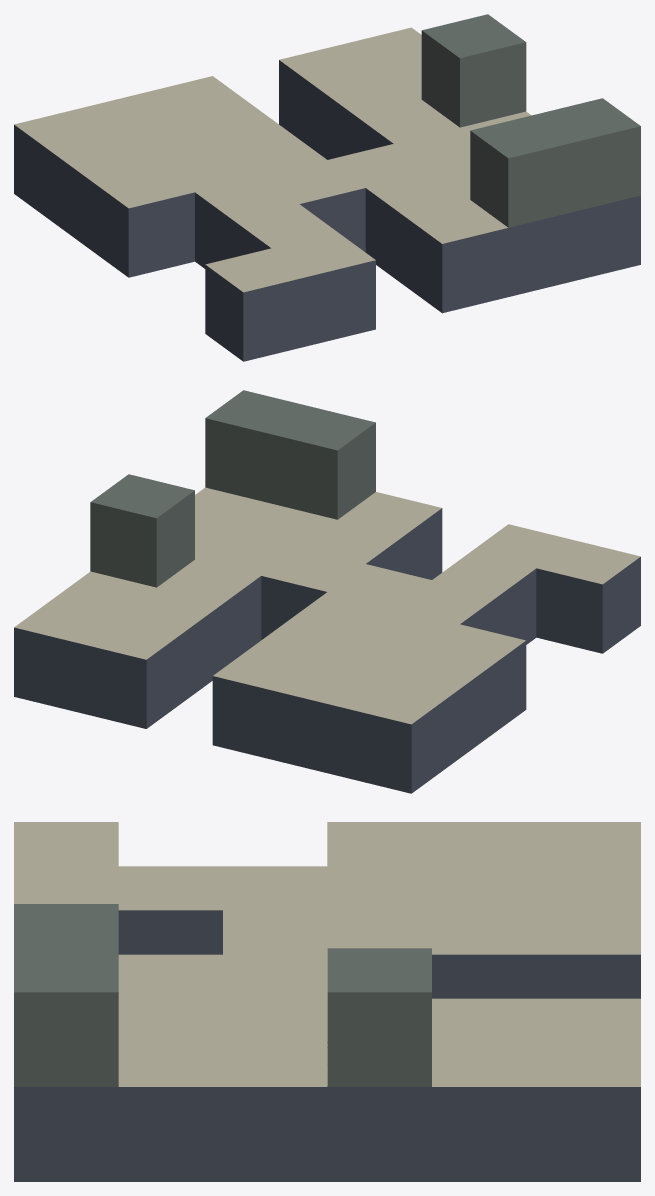
3 renders of one model, top to bottom at view 1: azimuth 30°, elevation 25°; view 2: azimuth 150°, elevation 25°; view 3: azimuth 270°, elevation 25°, orthographic. The views are drawn at different scales.
Visible parts, largest first — view 1: 4.1; view 2: 4.1; view 3: 4.1.
Boxes of the visible parts, x1,y1,x2,y2 form: 4.1: [14, 14, 640, 361]; 4.1: [14, 390, 640, 793]; 4.1: [14, 822, 640, 1181].
Size of the model in its own units: 600 by 200 by 600.
